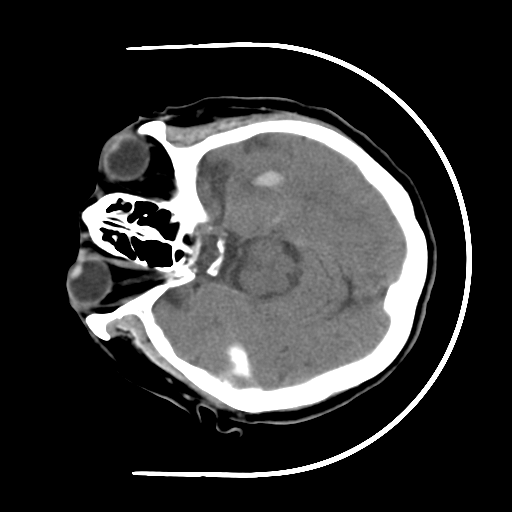a: (225, 147, 305, 205)
